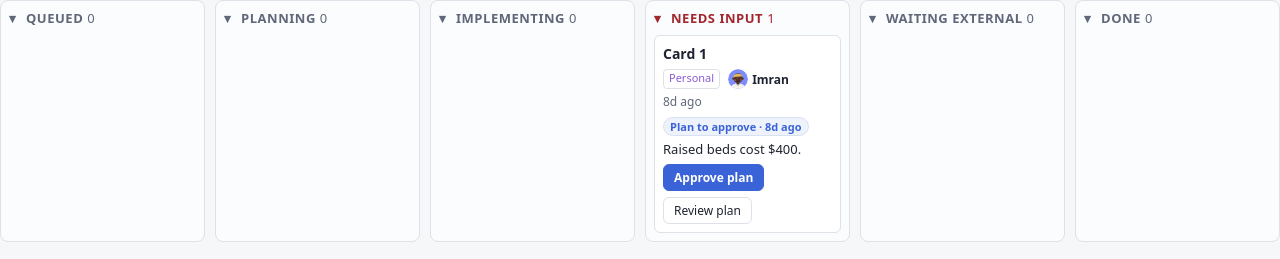
Scenario: board card: plan approval (06 §Plan approval) › Approve plan posts exactly {name: answer option, text: PLAN_APPROVED_TEXT}, busy while in flight
Click the button "Approve plan": (714, 178) top-left (663, 164), bottom-right (764, 191)
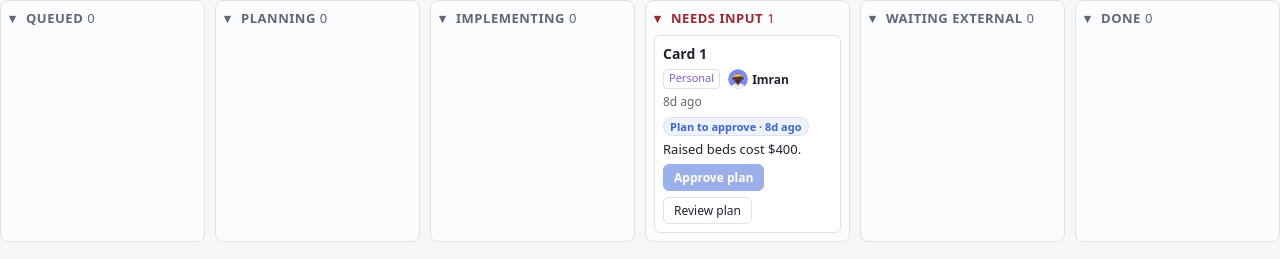
Expected: the button "Approve plan" is disabled
Click the button "Approve plan": (714, 178) top-left (663, 164), bottom-right (764, 191)
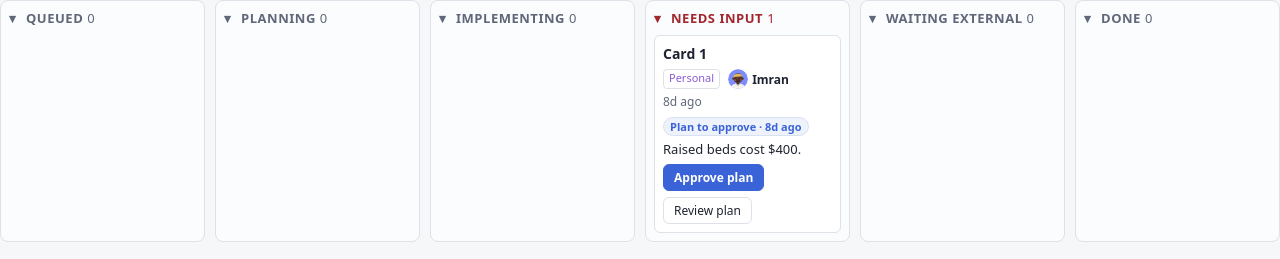
Expected: the button "Approve plan" is enabled, top-left (663, 164), bottom-right (764, 191)
